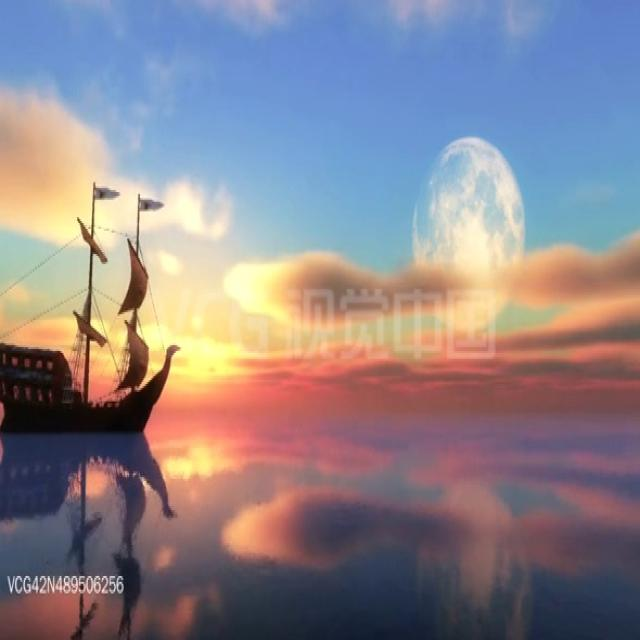sailboat: (0, 164, 180, 428)
